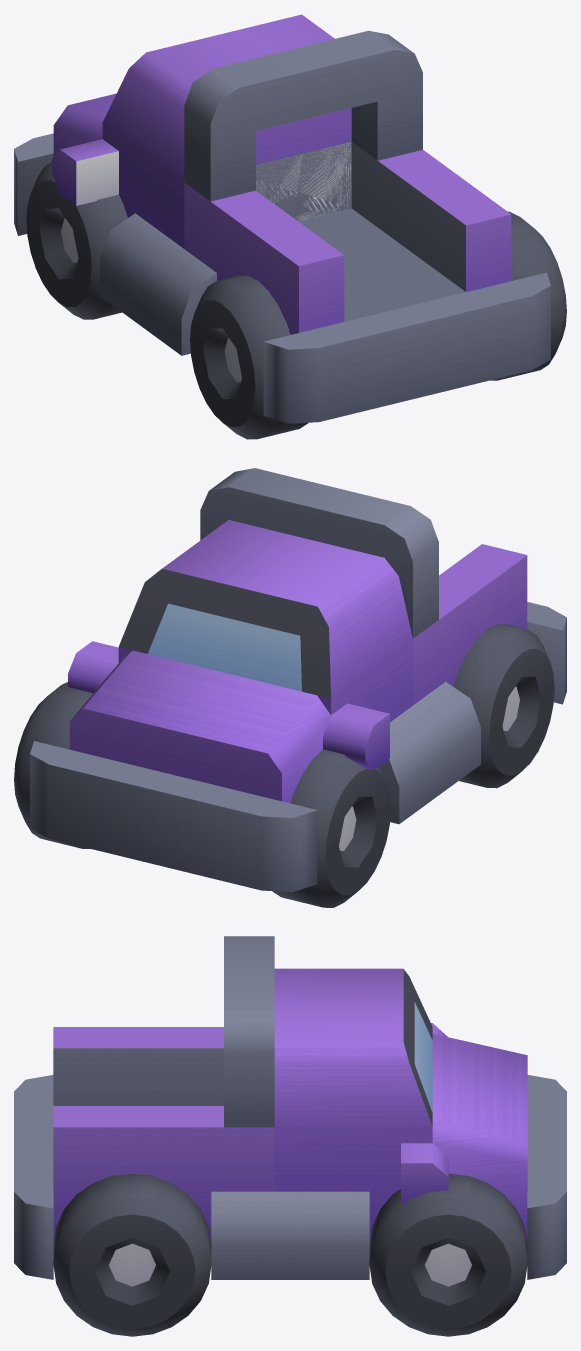
Rendered from vehicle-suv.glb.
The picture shows the model from 3 angles, top to bottom: view 1: azimuth 30°, elevation 25°; view 2: azimuth 150°, elevation 25°; view 3: azimuth 270°, elevation 25°; orthographic projection. The views are drawn at different scales.
Parts seen in each view (by area): view 1: vehicle-suv, wheel-bl, wheel-fl, wheel-br; view 2: vehicle-suv, wheel-bl, wheel-fl, wheel-fr; view 3: vehicle-suv, wheel-br, wheel-fr.
Part boxes in pixels (box(x1,y1,x2,y2)): vehicle-suv: box(14, 14, 550, 423); wheel-bl: box(190, 275, 308, 439); wheel-fl: box(26, 162, 127, 319); wheel-br: box(490, 211, 566, 380); vehicle-suv: box(30, 468, 566, 892); wheel-bl: box(453, 624, 554, 788); wheel-fl: box(272, 749, 390, 907); wheel-fr: box(14, 682, 92, 849); vehicle-suv: box(14, 936, 566, 1279); wheel-br: box(53, 1173, 211, 1336); wheel-fr: box(369, 1173, 527, 1336).
Size of the model in its own units: 0.5625 by 0.505 by 0.875.
1 material, 1 textured.
